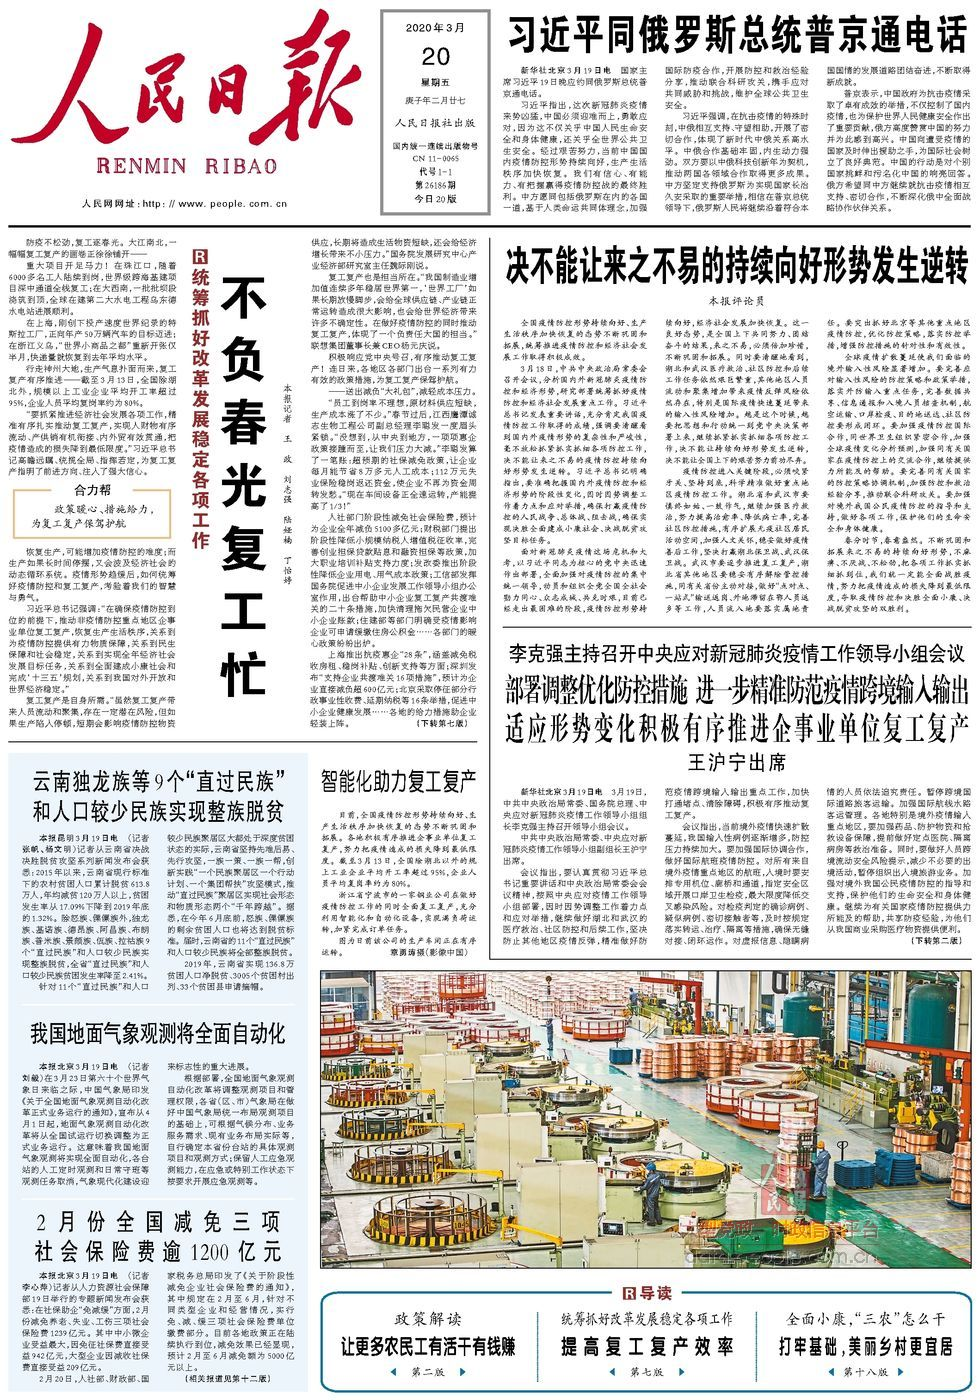pic: (314, 967, 978, 1274)
